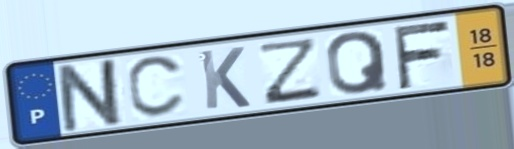C: (124, 52, 188, 121)
F: (389, 17, 453, 92)
K: (196, 45, 254, 112)
N: (55, 54, 127, 135)
Q: (324, 29, 392, 98)
Z: (259, 35, 323, 107)
